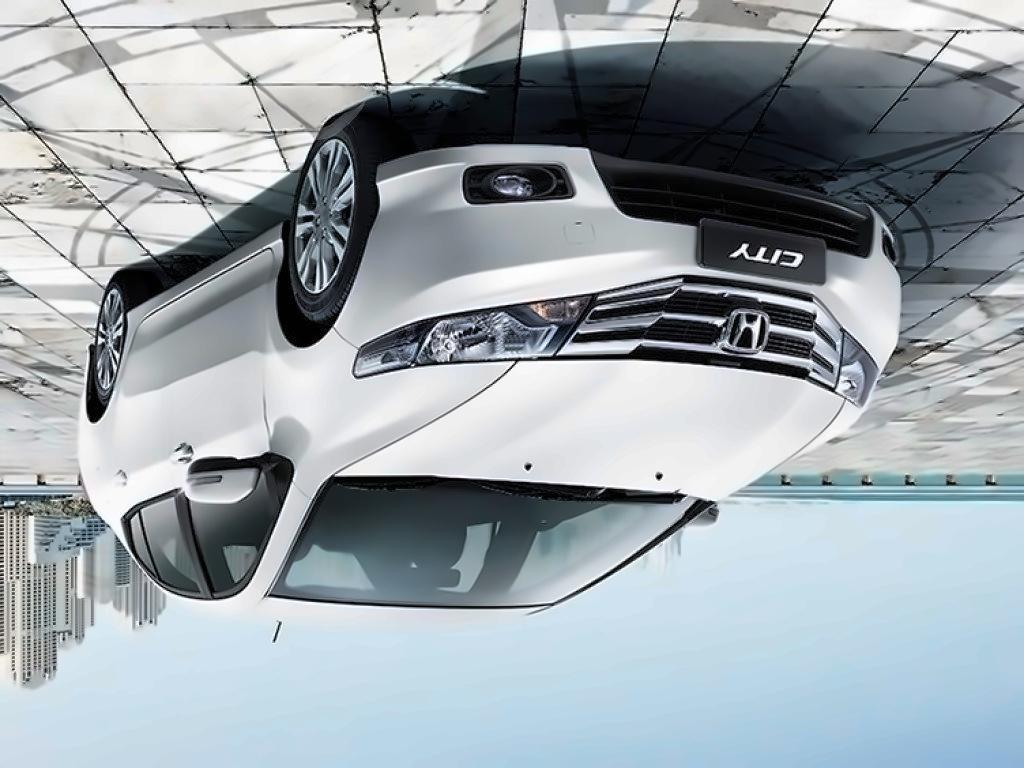Car hood: (330, 359, 842, 507)
Fender - -F-L-: (258, 233, 520, 499)
Fender - -R-L-: (65, 349, 141, 517)
Front bumper: (333, 146, 909, 370)
Headlight - -L-: (351, 293, 599, 378)
Headlight - -R-: (829, 324, 879, 410)
Passenger-s door - -F-L-: (163, 186, 307, 612)
Passenger-s door - -R-L-: (110, 259, 206, 610)
Side bumper - -L-: (119, 203, 290, 367)
Side mirror - -L-: (179, 449, 280, 507)
